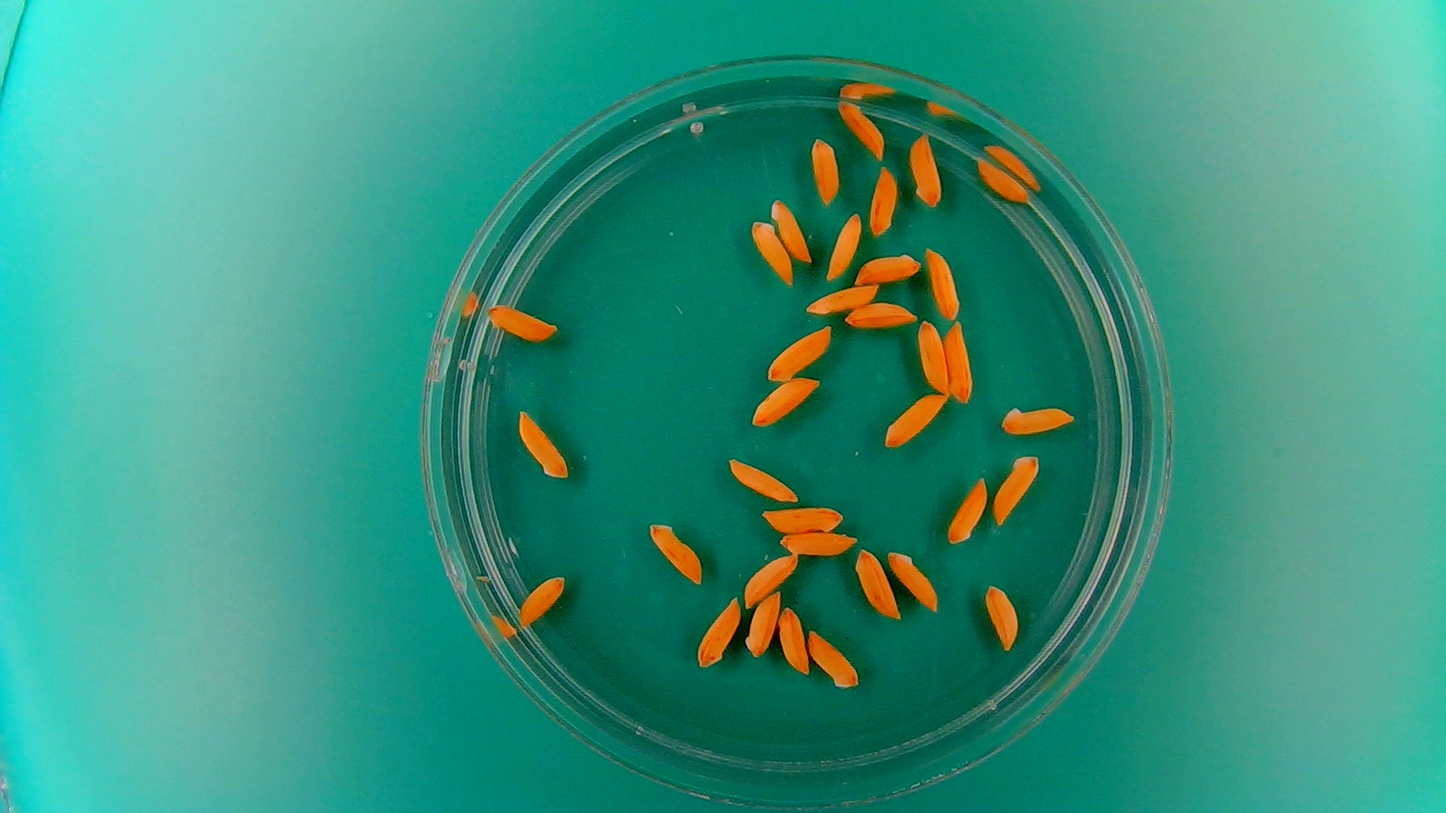no: (801, 624, 865, 699), (880, 390, 949, 451), (514, 406, 569, 480), (764, 324, 834, 381), (647, 519, 705, 586), (750, 375, 822, 428), (992, 452, 1042, 527), (694, 594, 743, 670), (885, 548, 940, 614), (725, 456, 799, 503), (853, 547, 900, 621), (741, 551, 798, 608), (836, 98, 886, 161), (487, 300, 560, 343), (945, 473, 988, 546), (972, 154, 1032, 206), (516, 571, 568, 631), (906, 129, 944, 209), (749, 218, 794, 285), (923, 245, 962, 321), (769, 196, 812, 263), (998, 401, 1076, 437), (825, 210, 864, 282), (983, 580, 1021, 653), (942, 319, 975, 403), (743, 589, 782, 660), (761, 503, 844, 535), (915, 319, 949, 397), (805, 282, 882, 315), (776, 604, 810, 676), (809, 134, 843, 205), (853, 251, 921, 285), (868, 164, 900, 236), (778, 529, 857, 557), (845, 300, 918, 328)
